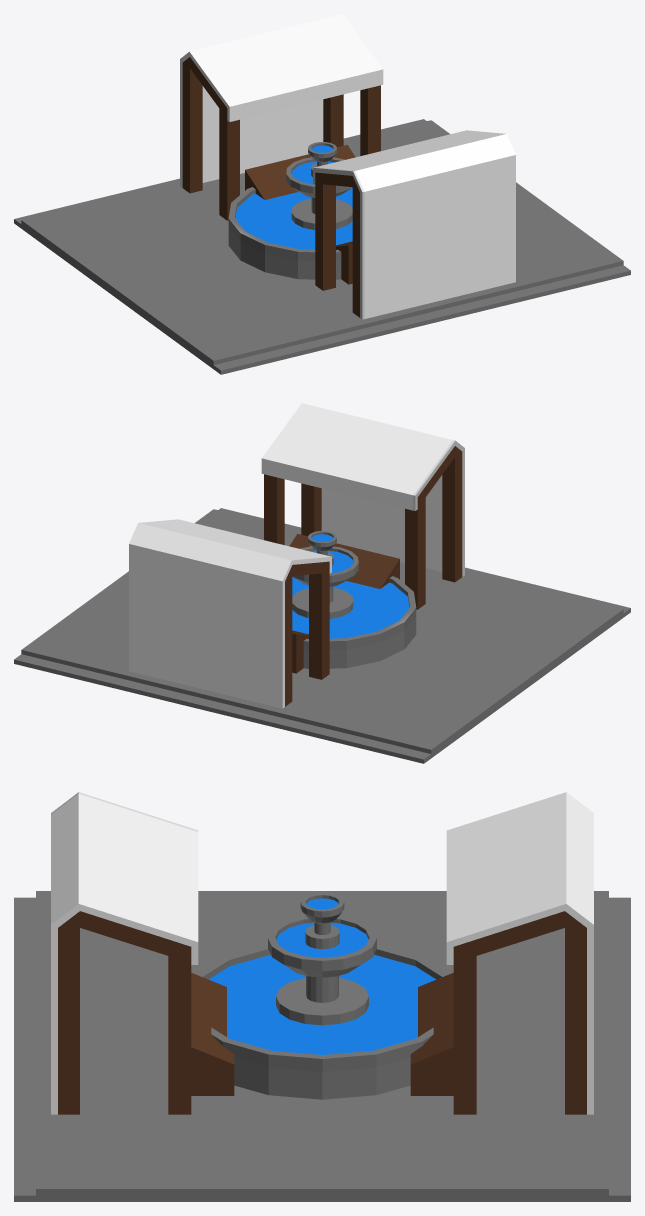
Rendered from Plaza Cap.fbx.
3 views of the same model, one above another, from view 1: azimuth 30°, elevation 25°; view 2: azimuth 150°, elevation 25°; view 3: azimuth 270°, elevation 25° (orthographic). The views are drawn at different scales.
Parts seen in each view (by area): view 1: Plaza Cap, Plaza Middle; view 2: Plaza Cap, Plaza Middle; view 3: Plaza Middle, Plaza Cap.
Part boxes in pixels (x1,y1,x2,y2): Plaza Cap: [41, 14, 600, 367]; Plaza Middle: [14, 119, 630, 374]; Plaza Cap: [129, 403, 584, 756]; Plaza Middle: [14, 508, 630, 763]; Plaza Middle: [14, 891, 630, 1201]; Plaza Cap: [14, 792, 630, 1114].
Bounding box in the file's own units: 100 × 34.99 × 87.5.
